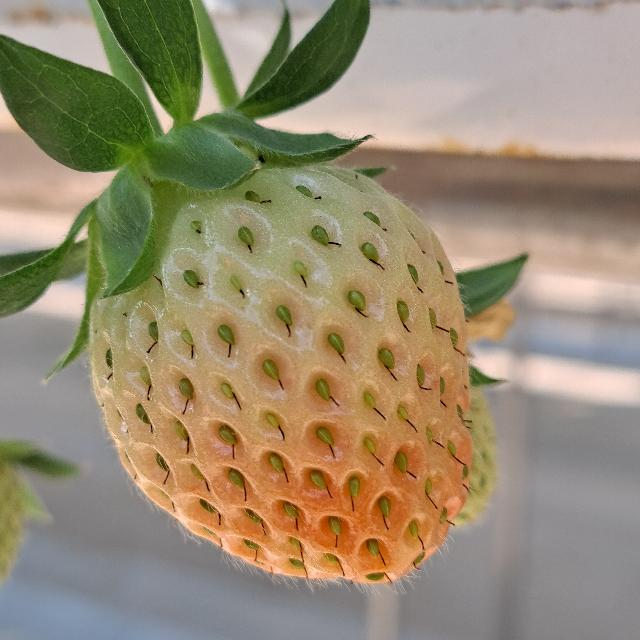Health_50: (89, 165, 474, 583)
